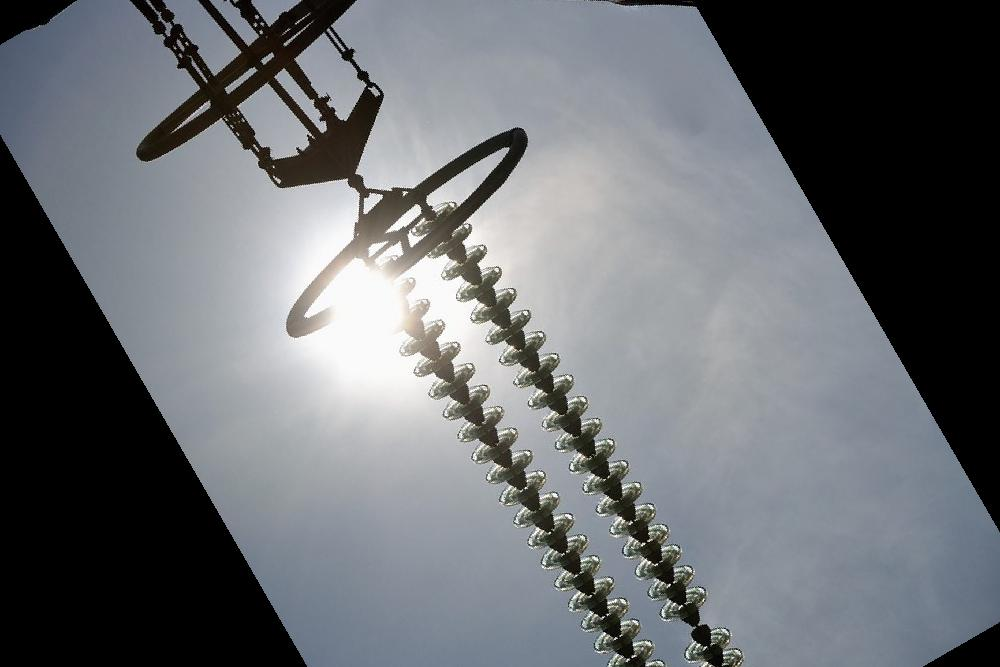insulator: (411, 196, 751, 667), (375, 273, 675, 667)
insulator_stringdrop: (656, 582, 734, 665)
